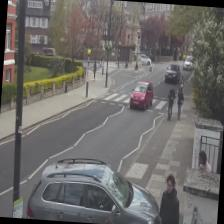person: (158, 172, 181, 224)
